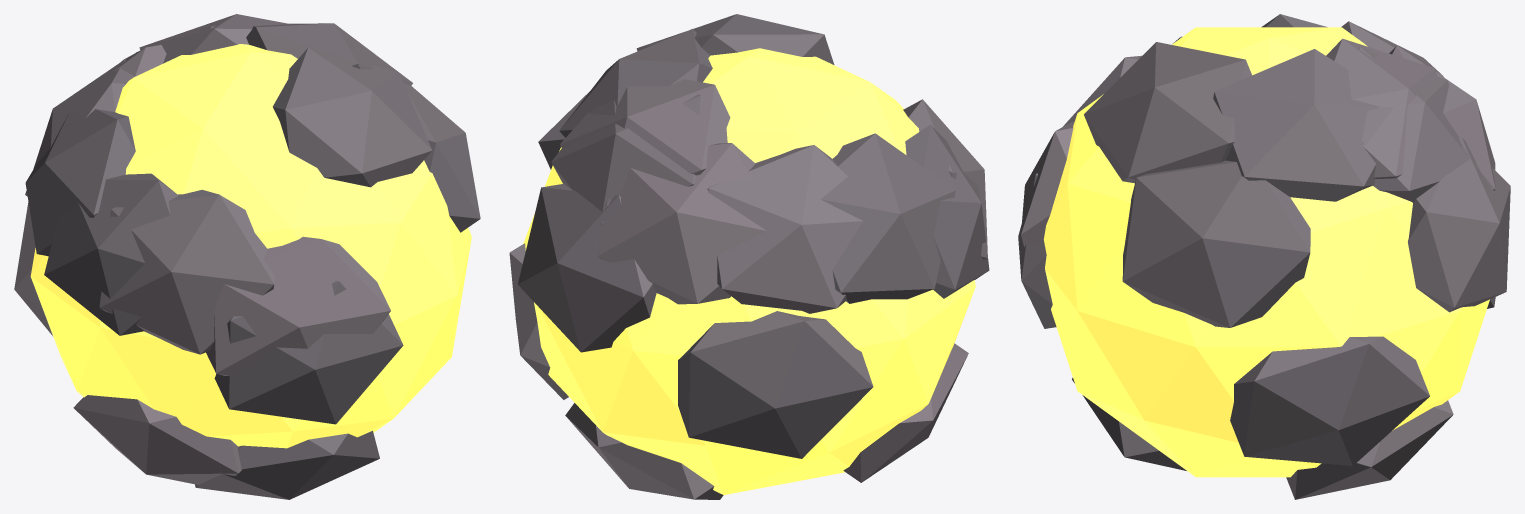
Rendered from meteor.glb.
3 views of the same model, side by side, from view 1: azimuth 30°, elevation 25°; view 2: azimuth 150°, elevation 25°; view 3: azimuth 270°, elevation 25° (orthographic). The views are drawn at different scales.
Visible parts, largest first — view 1: Molten interior, Scorched crust.012, Scorched crust.001, Scorched crust.009, Scorched crust.015, Scorched crust, Scorched crust.005, Scorched crust.014, Scorched crust.010, Scorched crust.011, Scorched crust.006, Scorched crust.008 (+3 smaller); view 2: Molten interior, Scorched crust.016, Scorched crust.003, Scorched crust.004, Scorched crust.005, Scorched crust.017, Scorched crust.008, Scorched crust, Scorched crust.007, Scorched crust.006, Scorched crust.013, Scorched crust.001 (+4 smaller); view 3: Molten interior, Scorched crust.011, Scorched crust.002, Scorched crust.006, Scorched crust.001, Scorched crust.017, Scorched crust.008, Scorched crust.007, Scorched crust.013, Scorched crust.009, Scorched crust.004, Scorched crust.015 (+3 smaller).
Part boxes in pixels (x1=…): Molten interior: x1=30, y1=44, x2=471, y2=448; Scorched crust.012: x1=99, y1=189, x2=274, y2=354; Scorched crust.001: x1=272, y1=47, x2=432, y2=187; Scorched crust.009: x1=206, y1=236, x2=390, y2=377; Scorched crust.015: x1=214, y1=280, x2=403, y2=424; Scorched crust: x1=44, y1=173, x2=178, y2=335; Scorched crust.005: x1=25, y1=109, x2=135, y2=256; Scorched crust.014: x1=73, y1=395, x2=241, y2=484; Scorched crust.010: x1=195, y1=430, x2=379, y2=499; Scorched crust.011: x1=404, y1=83, x2=480, y2=232; Scorched crust.006: x1=246, y1=23, x2=412, y2=85; Scorched crust.008: x1=139, y1=14, x2=290, y2=63; Molten interior: x1=523, y1=48, x2=975, y2=494; Scorched crust.016: x1=678, y1=311, x2=873, y2=458; Scorched crust.003: x1=707, y1=145, x2=863, y2=313; Scorched crust.004: x1=597, y1=143, x2=766, y2=304; Scorched crust.005: x1=820, y1=133, x2=955, y2=303; Scorched crust.017: x1=518, y1=184, x2=656, y2=352; Scorched crust.008: x1=560, y1=79, x2=730, y2=206; Scorched crust: x1=905, y1=124, x2=989, y2=298; Scorched crust.007: x1=551, y1=94, x2=702, y2=225; Scorched crust.006: x1=559, y1=29, x2=712, y2=137; Scorched crust.013: x1=565, y1=403, x2=723, y2=499; Scorched crust.001: x1=636, y1=14, x2=834, y2=64; Molten interior: x1=1043, y1=27, x2=1489, y2=477; Scorched crust.011: x1=1122, y1=160, x2=1310, y2=327; Scorched crust.002: x1=1230, y1=336, x2=1429, y2=465; Scorched crust.006: x1=1213, y1=49, x2=1379, y2=201; Scorched crust.001: x1=1084, y1=42, x2=1252, y2=183; Scorched crust.017: x1=1408, y1=137, x2=1510, y2=312; Scorched crust.008: x1=1326, y1=38, x2=1467, y2=178; Scorched crust.007: x1=1358, y1=47, x2=1477, y2=202; Scorched crust.013: x1=1286, y1=400, x2=1453, y2=499; Scorched crust.009: x1=1021, y1=121, x2=1074, y2=248; Scorched crust.004: x1=1389, y1=46, x2=1495, y2=190; Scorched crust.015: x1=1018, y1=173, x2=1056, y2=328.
Bounding box in the file's own units: 1.48 × 1.43 × 1.48.
